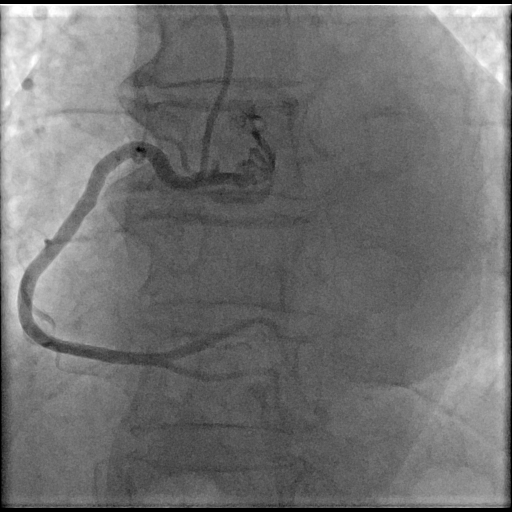RCA: (17, 143, 285, 380)
catherter: (201, 4, 232, 174)
